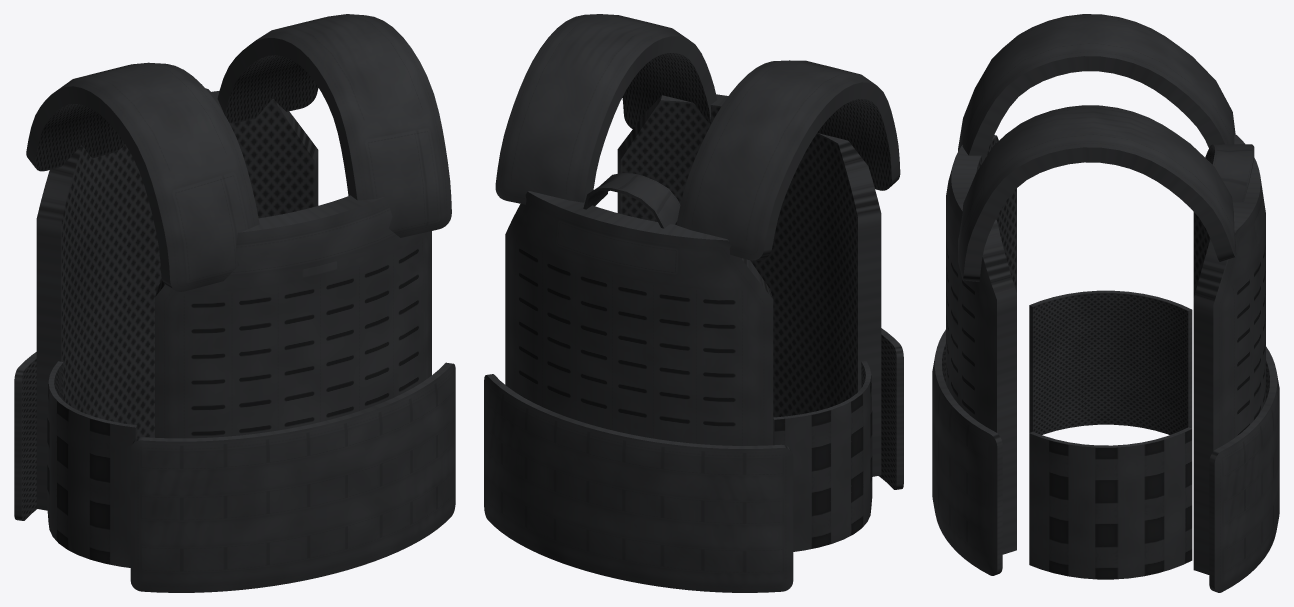
File: SM_PlateCarrier.fbx
3 renders of one model, left to right at view 1: azimuth 30°, elevation 25°; view 2: azimuth 150°, elevation 25°; view 3: azimuth 270°, elevation 25°, orthographic. The views are drawn at different scales.
Visible parts, largest first — view 1: SM_PlateCarrier; view 2: SM_PlateCarrier; view 3: SM_PlateCarrier.
Part boxes in pixels (x1,y1,x2,y2): SM_PlateCarrier: (14,14,455,592); SM_PlateCarrier: (484,14,903,592); SM_PlateCarrier: (932,14,1279,592).
Bounding box in the file's own units: 35.81 × 47.44 × 33.43.
